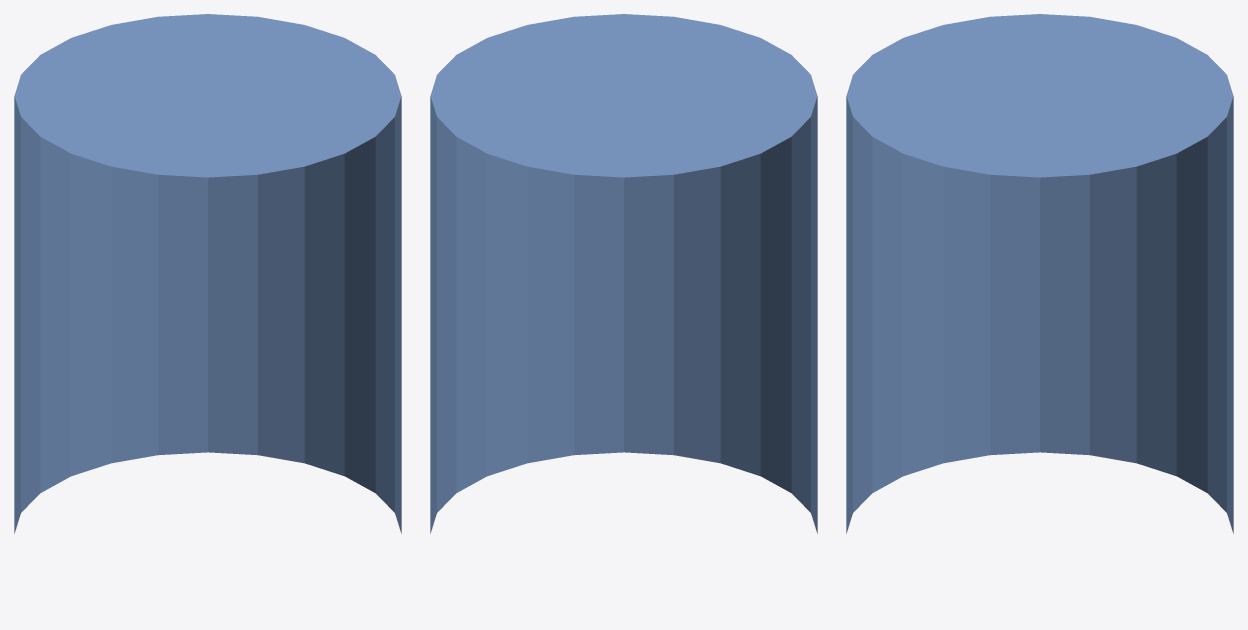
Rendered from 3d-elementary-cylinder-blue-20260125.glb.
3 views of the same model, side by side, from view 1: azimuth 30°, elevation 25°; view 2: azimuth 150°, elevation 25°; view 3: azimuth 270°, elevation 25° (orthographic).
Parts seen in each view (by area): view 1: Cylinder; view 2: Cylinder; view 3: Cylinder.
Part boxes in pixels (left/top/right/bottom): Cylinder: left=14, top=14, right=401, bottom=533; Cylinder: left=430, top=14, right=817, bottom=533; Cylinder: left=846, top=14, right=1233, bottom=533.
Size of the model in its own units: 1.6 by 2 by 1.6.
